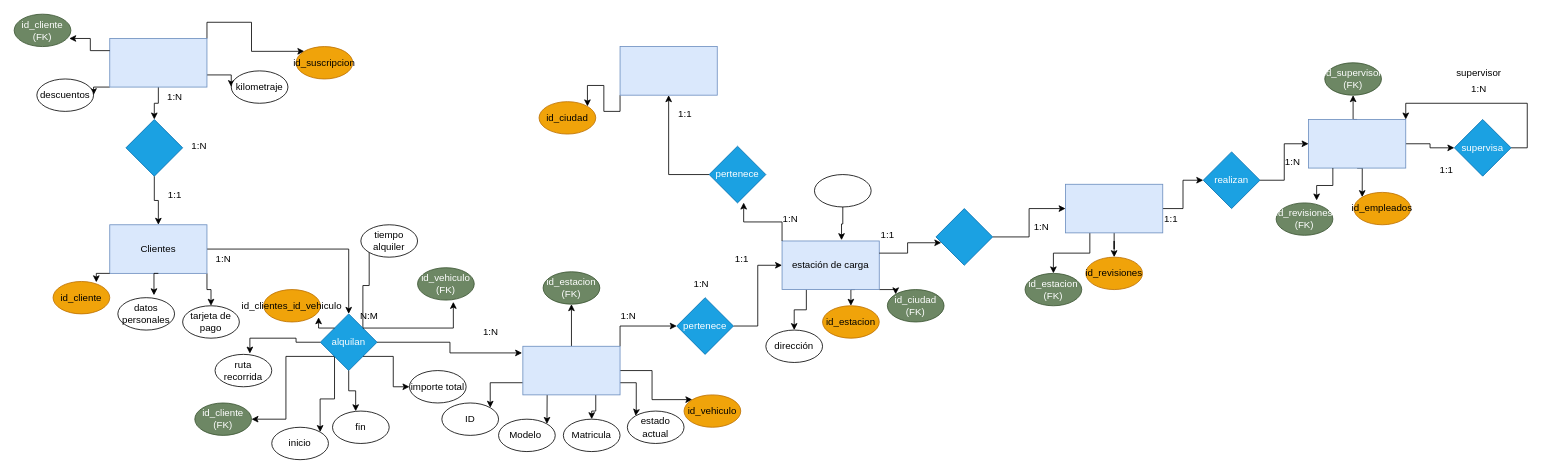
Some shapes in this 1548 by 474 pixel diagram are drawn without their labels. Here are the shapes that lost their labels. From the top down, the centre of each, then its label:
(x=158, y=62): suscrpción mensual
(x=668, y=70): ciudad
(x=154, y=147): tiene
(x=1357, y=143): empleados
(x=842, y=190): nombre
(x=1114, y=208): revisiones tecnicas
(x=964, y=236): registran
(x=571, y=370): Vehiculo
